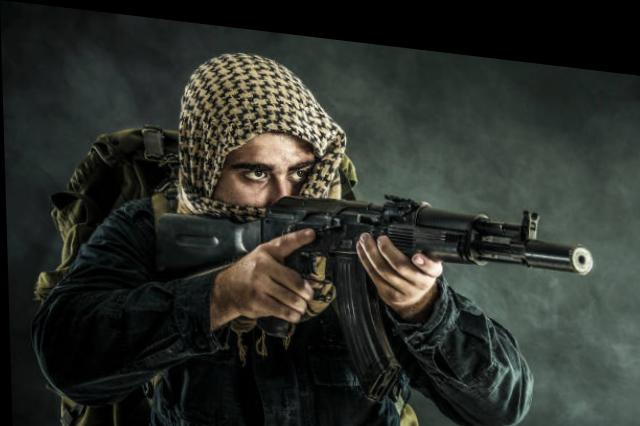other: (23, 20, 541, 424)
